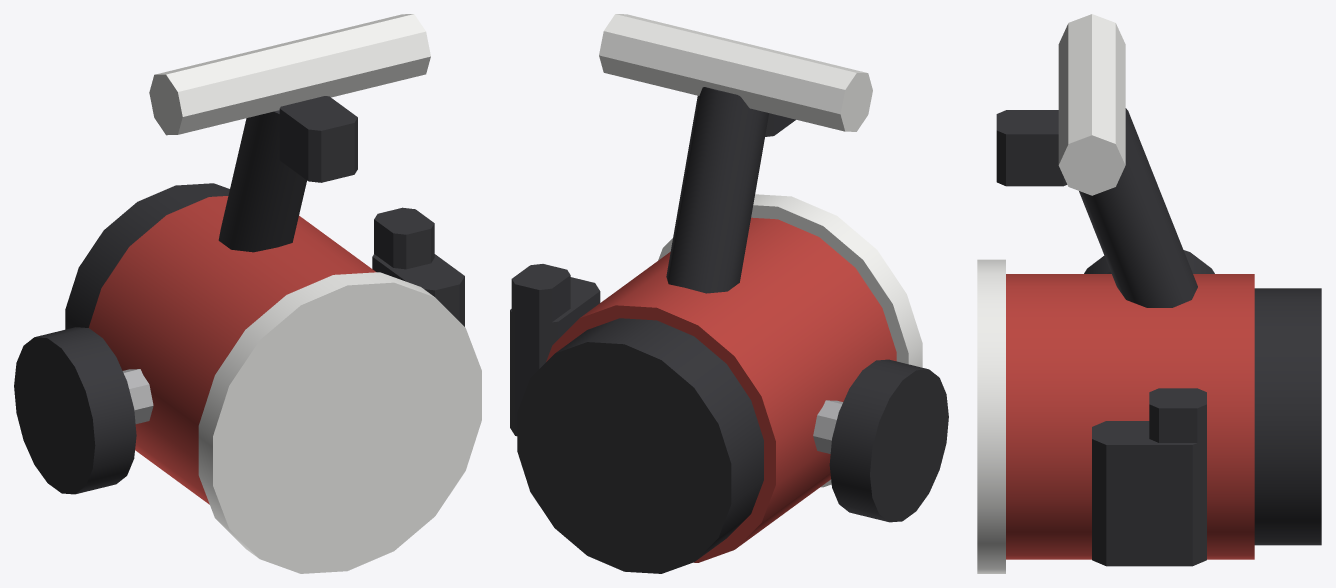
Rendered from throttle_body.glb.
3 views of the same model, side by side, from view 1: azimuth 30°, elevation 25°; view 2: azimuth 150°, elevation 25°; view 3: azimuth 270°, elevation 25° (orthographic). The views are drawn at different scales.
Visible parts, largest first — view 1: lod0; view 2: lod0; view 3: lod0.
Part boxes in pixels (x1,y1,x2,y2): lod0: (14,14,481,573); lod0: (510,14,948,573); lod0: (977,14,1321,573).
Size of what is drawn, in the model's own units: 0.094 by 0.112 by 0.072.
